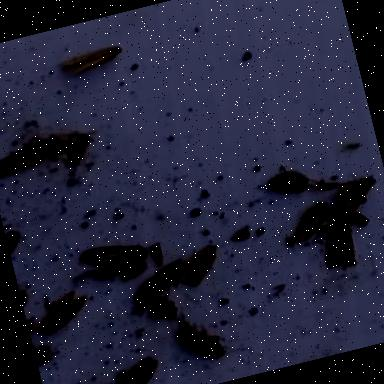pbw: (321, 167, 384, 228), (31, 286, 93, 340), (127, 261, 189, 309), (76, 238, 150, 276), (314, 216, 358, 272), (56, 44, 124, 80), (176, 244, 224, 291), (0, 141, 51, 180), (285, 203, 331, 246), (174, 326, 222, 366), (100, 357, 164, 384), (146, 296, 178, 322), (4, 230, 22, 255)
